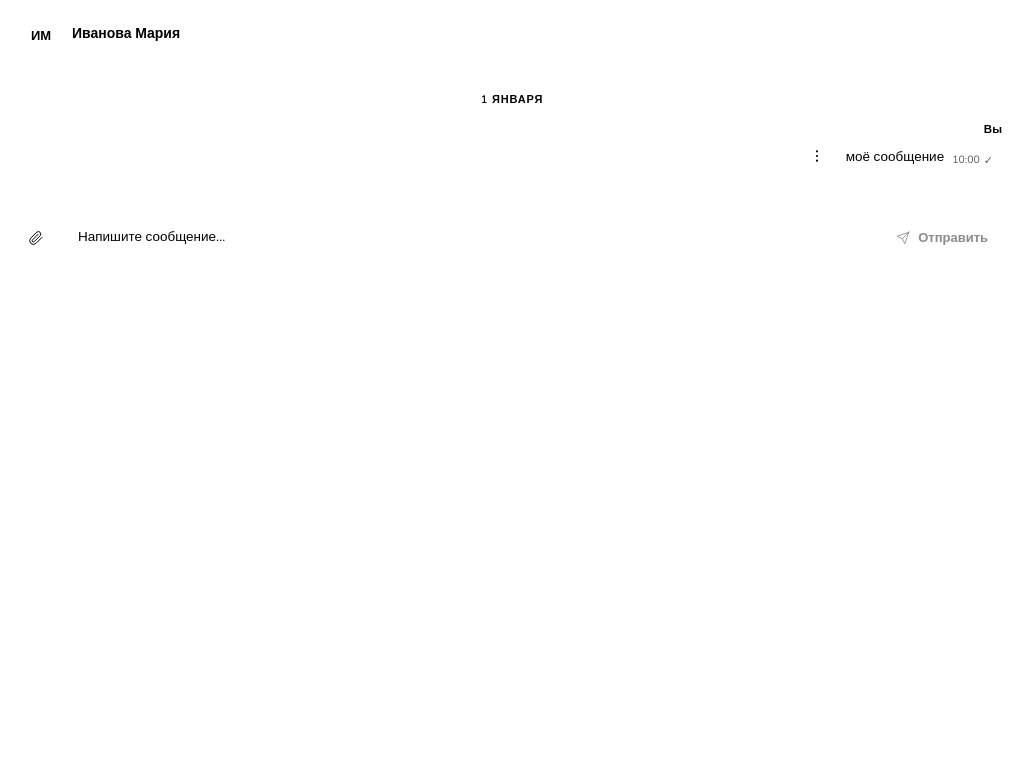
Test case: after confirming delete the message disappears from the feed (no placeholder)
Check: the text "моё сообщение" is shown, box [846,148,944,166]
Click the button named "Действия с сообщением": [817, 156] box [804,143,830,169]
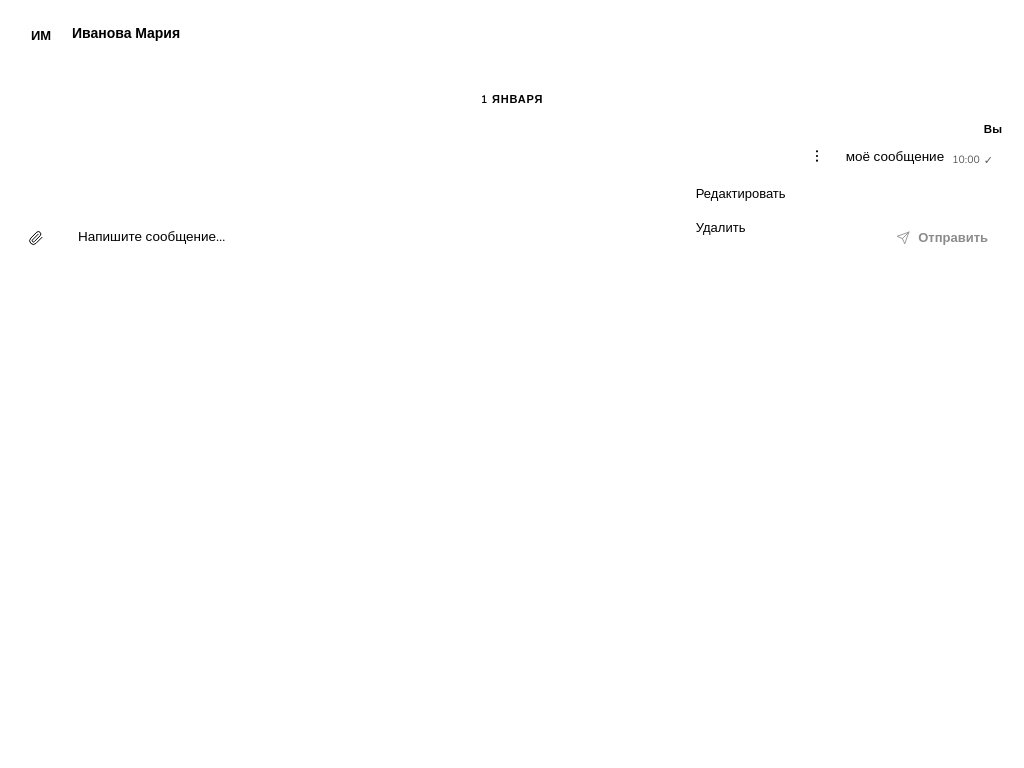
Click the menu item "Удалить": [755, 228] box [684,211,826,245]
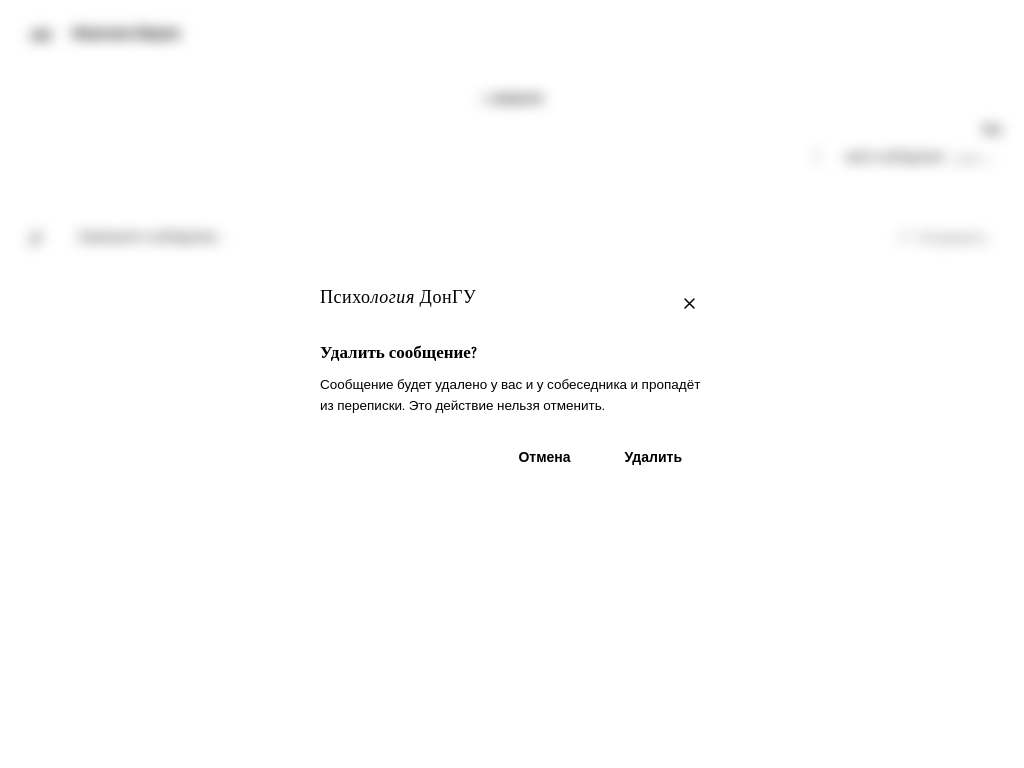
Click the button "Удалить": [653, 458] box [602,438,704,478]
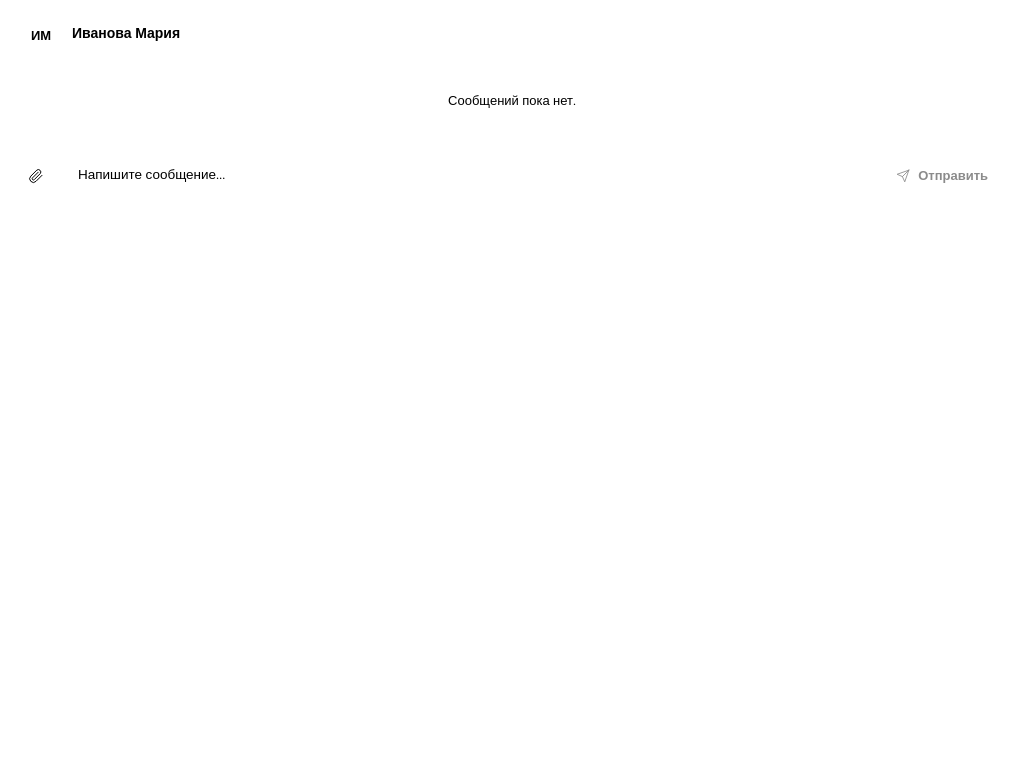
Check: the text "моё сообщение" is gone
